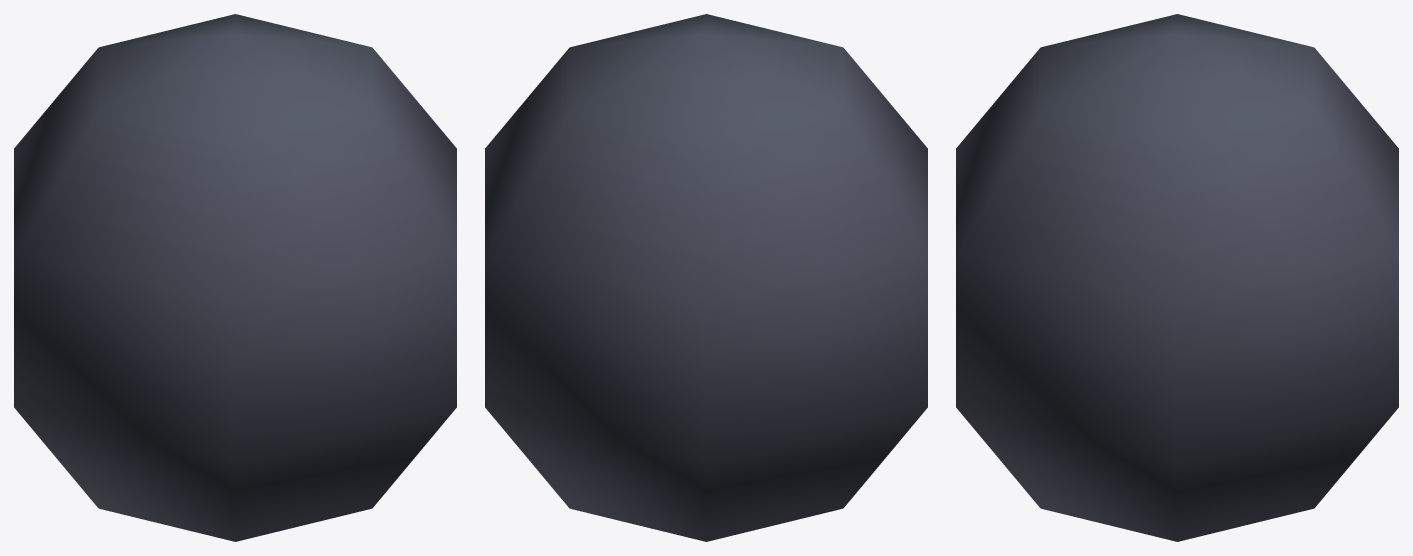
The model's file is kenney-pirate-cannon-ball.glb.
3 views of the same model, side by side, from view 1: azimuth 30°, elevation 25°; view 2: azimuth 150°, elevation 25°; view 3: azimuth 270°, elevation 25° (orthographic).
Visible parts, largest first — view 1: cannon-ball; view 2: cannon-ball; view 3: cannon-ball.
Part boxes in pixels (left/top/right/bottom): cannon-ball: left=14, top=14, right=456, bottom=541; cannon-ball: left=485, top=14, right=927, bottom=541; cannon-ball: left=956, top=14, right=1398, bottom=541.
Bounding box in the file's own units: 0.6372 × 0.67 × 0.5518.
1 material, 1 textured.
